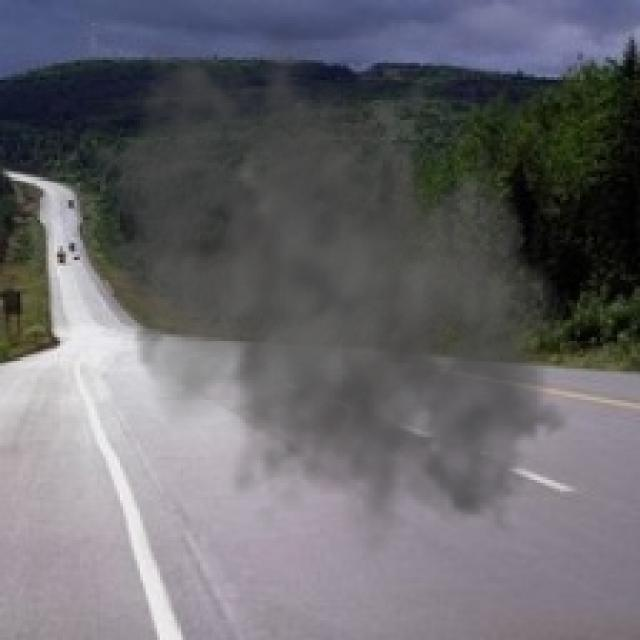Smoke: (57, 17, 603, 560)
